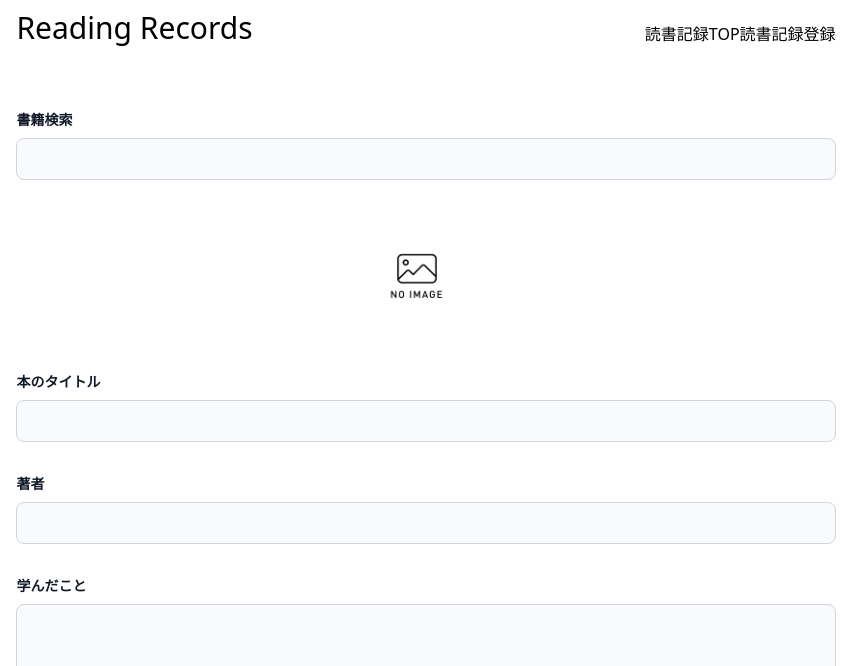
Test case: pages/reading_records/new/components/ReadingRecordCreate › 書籍検索 › 書籍検索ができ、その内容でフォームが入力できること
In the field labelled "書籍検索": (426, 159) [16, 138, 836, 180], type "test_"
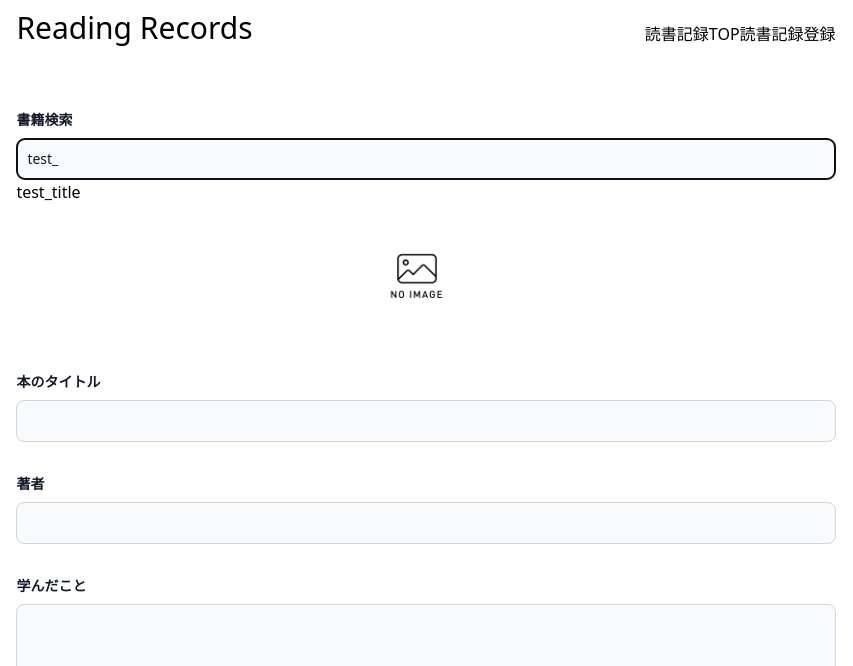
NOTE: 検索結果が表示される、それを選択するとフォームに反映されること
Click the list item "test_title": (48, 192) [16, 181, 81, 203]
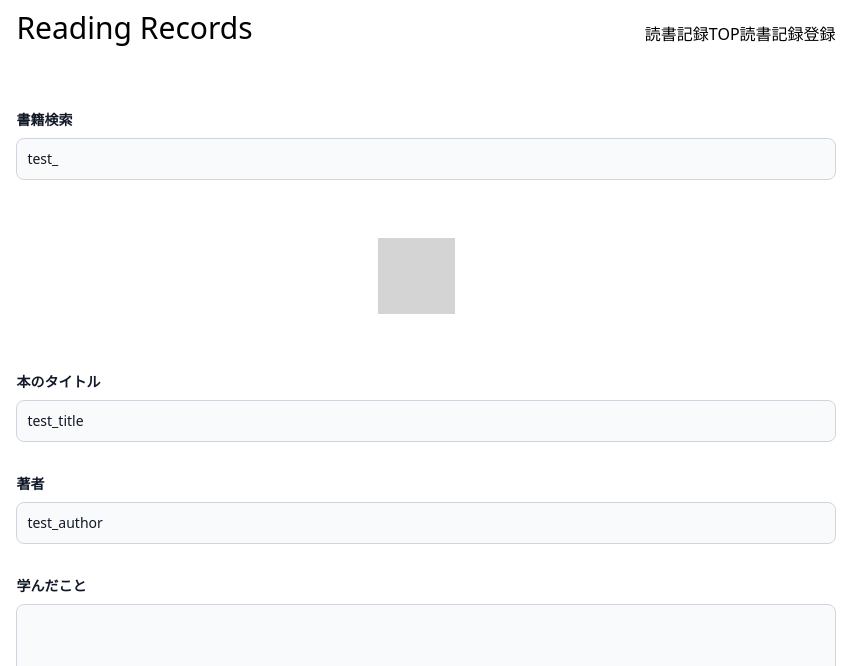
Expected: the field labelled "本のタイトル" holds "test_title", [16, 400, 836, 442]
Expected: the field labelled "著者" holds "test_author", [16, 502, 836, 544]
